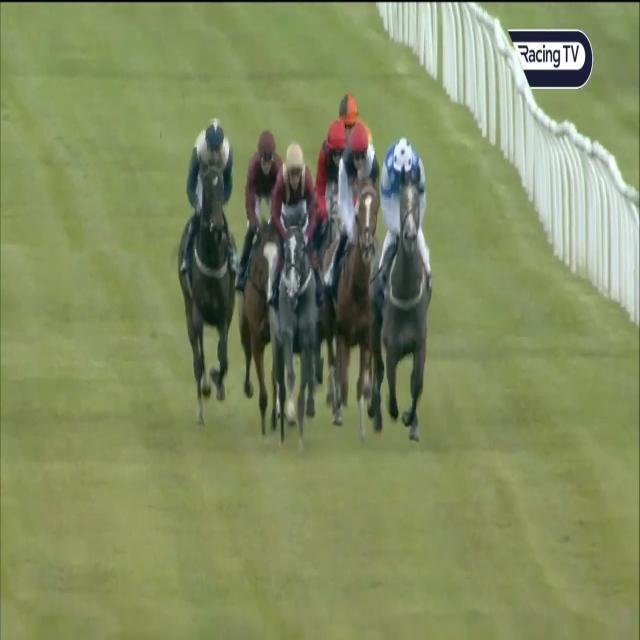horses-racing: (370, 139, 436, 454), (177, 117, 238, 428), (272, 143, 317, 450), (240, 133, 282, 429), (336, 128, 371, 449), (311, 121, 347, 371), (332, 88, 371, 273)
